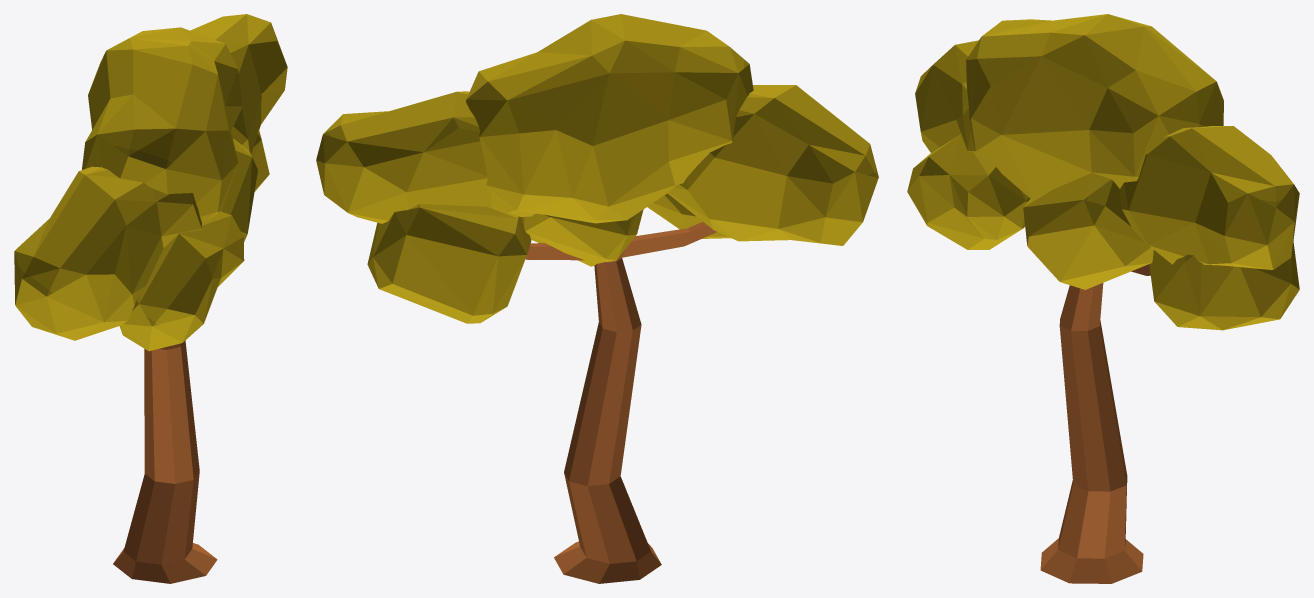
Rendered from ArbolSolo3.obj.
3 views of the same model, side by side, from view 1: azimuth 30°, elevation 25°; view 2: azimuth 150°, elevation 25°; view 3: azimuth 270°, elevation 25° (orthographic). The views are drawn at different scales.
Parts seen in each view (by area): view 1: Arbol005, Arbol006; view 2: Arbol005, Arbol006; view 3: Arbol005, Arbol006.
Part boxes in pixels (box(x1,y1,x2,y2)): Arbol005: box(14, 14, 287, 351); Arbol006: box(113, 340, 217, 583); Arbol005: box(316, 14, 878, 323); Arbol006: box(525, 222, 717, 583); Arbol005: box(907, 14, 1299, 330); Arbol006: box(1040, 264, 1150, 583).
Bounding box in the file's own units: 12.87 × 15.86 × 10.51.
